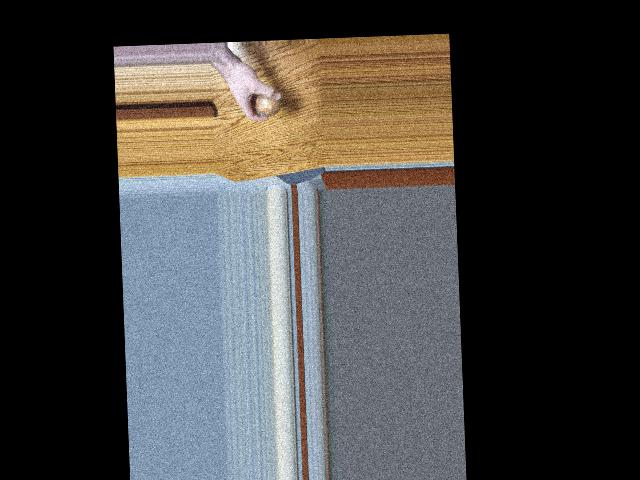onion: (255, 90, 280, 117)
